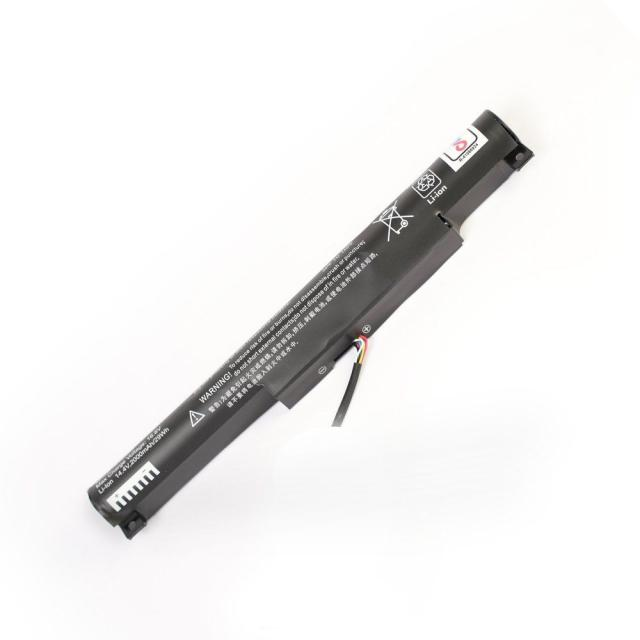electronic: (62, 24, 625, 640)
